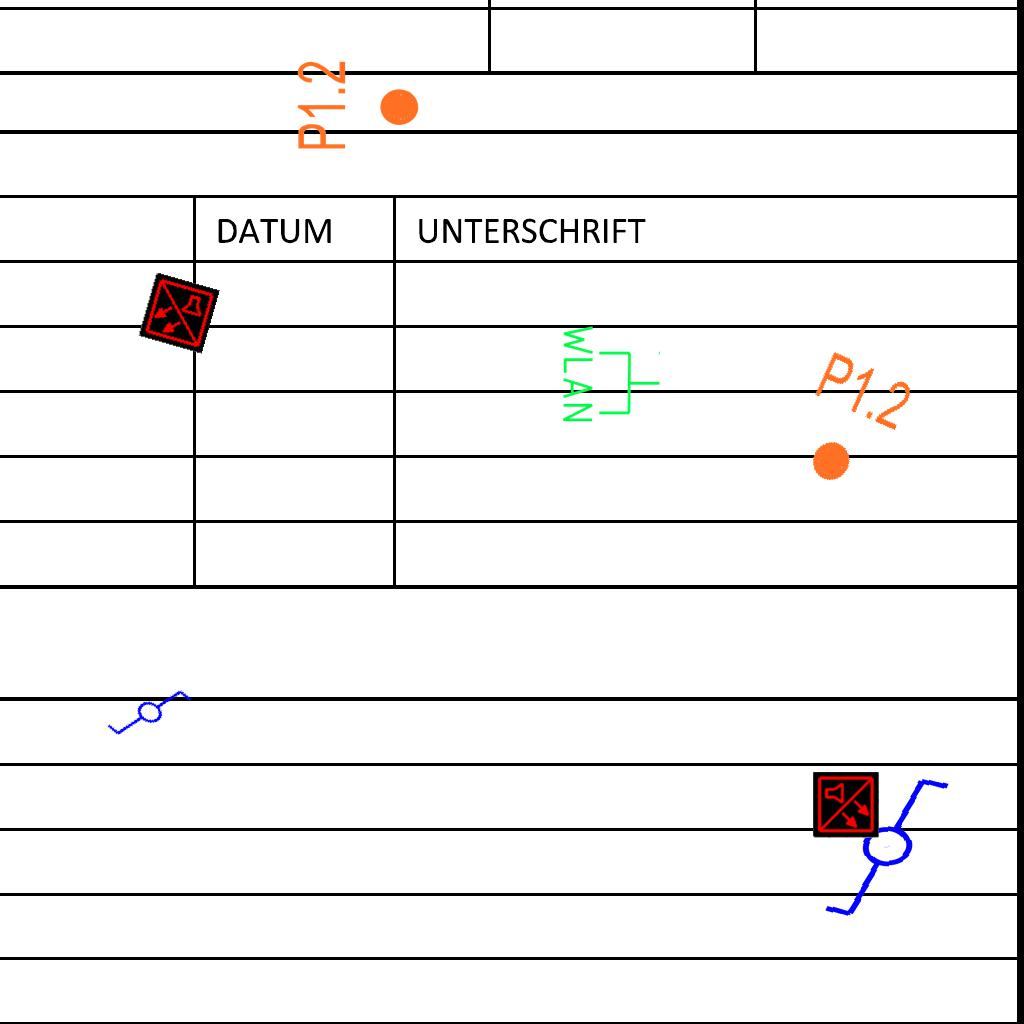Downlight_LED_Einbauleuchten_Flur: (780, 346, 919, 502), (294, 59, 422, 152)
OKW_Multisensormelder_(Kombination_optischer_Rauch-Kahlenmonoxid_Waerme-Melder): (138, 272, 220, 354), (813, 772, 879, 838)
WLAN: (559, 321, 663, 426)
Wechselschalter: (812, 770, 979, 926), (102, 666, 204, 764)
